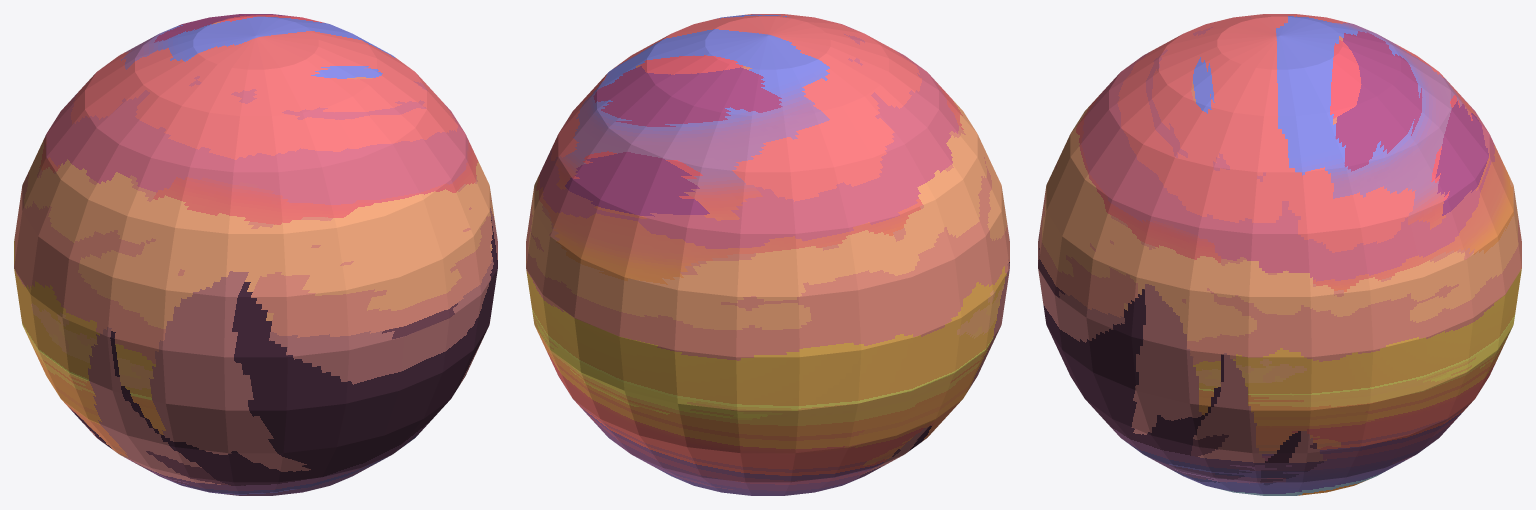
The model's file is SkyBoxGeneral.gltf.
The picture shows the model from 3 angles, left to right: view 1: azimuth 30°, elevation 25°; view 2: azimuth 150°, elevation 25°; view 3: azimuth 270°, elevation 25°; orthographic projection.
Visible parts, largest first — view 1: sphere; view 2: sphere; view 3: sphere.
Boxes of the visible parts, left/top/right/bottom form: sphere: left=14, top=14, right=497, bottom=495; sphere: left=526, top=14, right=1009, bottom=495; sphere: left=1038, top=14, right=1521, bottom=495.
Size of the model in its own units: 2 by 2 by 2.
Materials: 1 (1 with a texture image).
